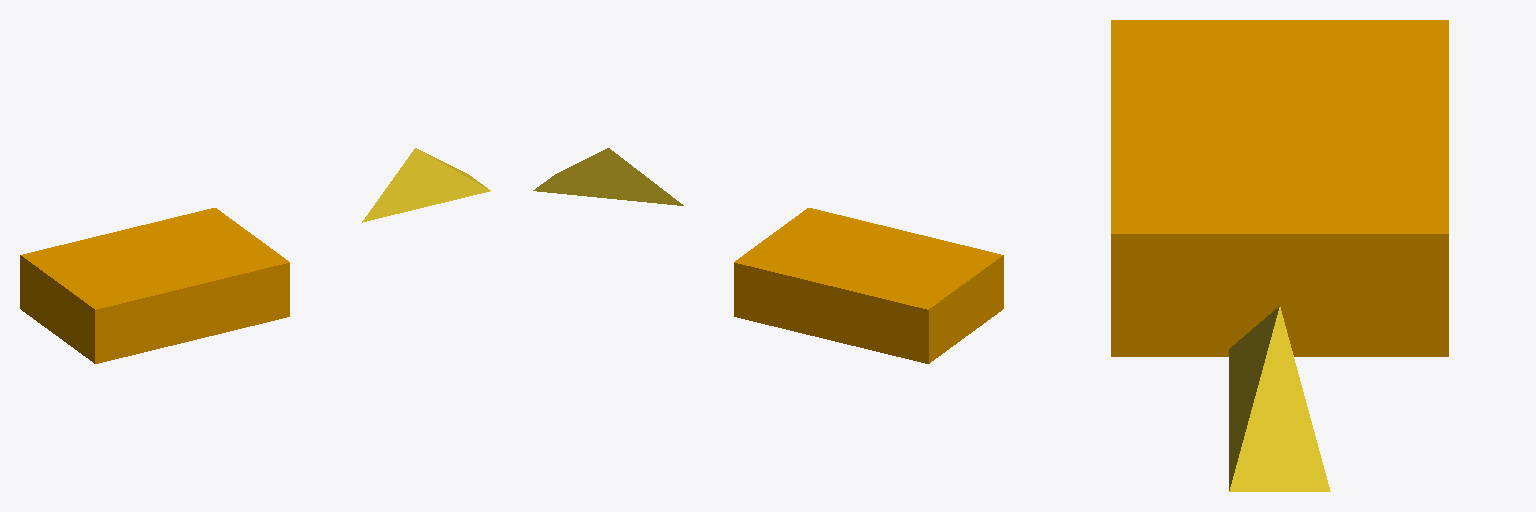
URDF robot description (JointViewerFixture):
<?xml version="1.0" encoding="UTF-8"?>
<robot name="JointViewerFixture">
  <material name="yellow"><color rgba="0.9 0.8 0.2 1"/></material>
  <link name="body">
    <visual><geometry><box size="0.3 0.2 0.08"/></geometry></visual>
    <collision><geometry><box size="0.3 0.2 0.08"/></geometry></collision>
  </link>
  <link name="arm">
    <visual>
      <origin xyz="0.25 0 0" rpy="0 0 0"/>
      <geometry><mesh filename="package://viewer_robot/meshes/arm.obj"/></geometry>
      <material name="yellow"/>
    </visual>
  </link>
  <joint name="shoulder" type="revolute">
    <parent link="body"/><child link="arm"/>
    <origin xyz="0.15 0 0.06" rpy="0 0 0"/>
    <axis xyz="0 0 1"/>
    <limit lower="-1.20" upper="1.20" effort="15" velocity="2"/>
  </joint>
</robot>

--- What the picture shows (computed from the rendered views, not written in the file) ---
The picture shows the robot from 3 angles, left to right: view 1: azimuth 30°, elevation 25°; view 2: azimuth 150°, elevation 25°; view 3: azimuth 270°, elevation 25°; orthographic projection.
Model JointViewerFixture with 2 links and 1 joints (1 revolute), rooted at body, posed all joints at 0.
Visible links, largest first — view 1: body, arm; view 2: body, arm; view 3: body, arm.
Boxes of the visible links, x1,y1,x2,y2 form: body: (20, 208, 289, 363); arm: (362, 148, 490, 222); body: (734, 208, 1003, 363); arm: (533, 148, 683, 205); body: (1111, 20, 1448, 356); arm: (1229, 306, 1330, 491).
Bounding box of the posed robot: 0.65 × 0.2 × 0.15 m (x, y, z).
1 mesh visuals loaded from 1 distinct referenced files (1 OBJ).
